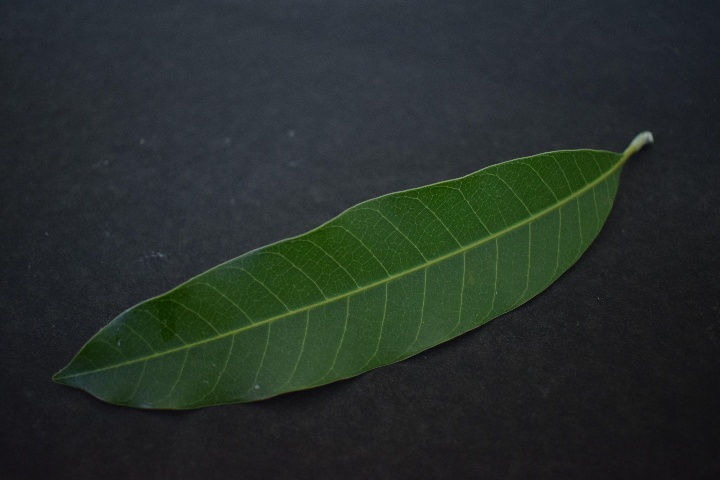healthy: (52, 146, 631, 413)
